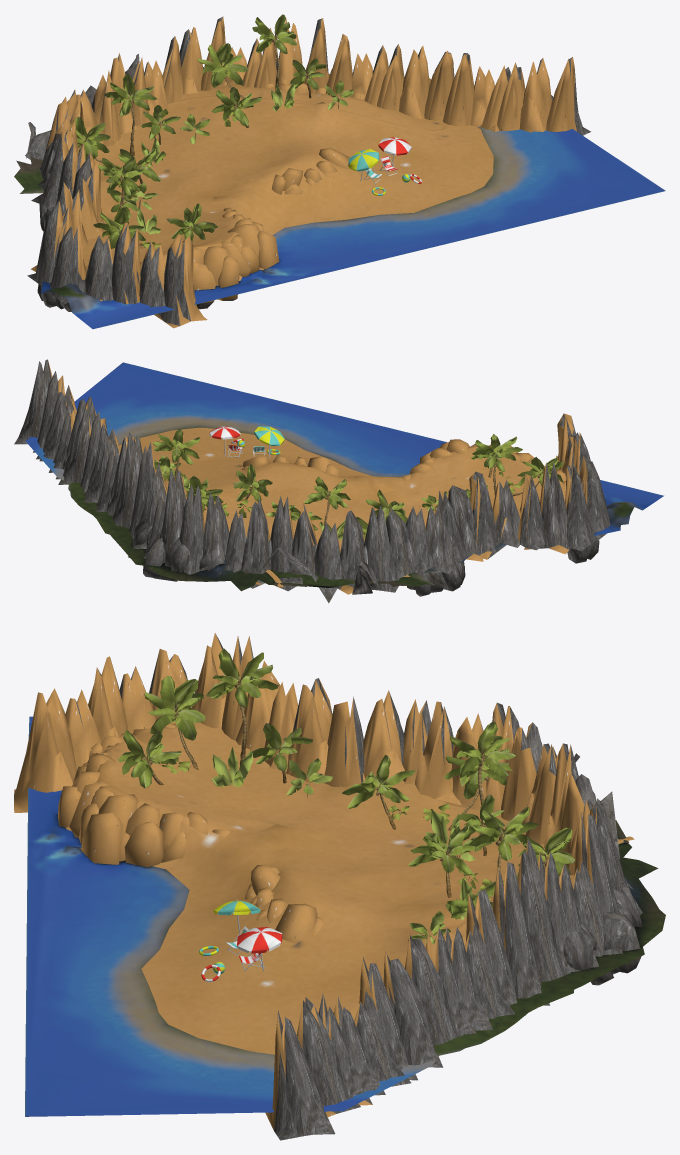
The model's file is Beach Scene.fbx.
The picture shows the model from 3 angles, top to bottom: view 1: azimuth 30°, elevation 25°; view 2: azimuth 150°, elevation 25°; view 3: azimuth 270°, elevation 25°; orthographic projection. The views are drawn at different scales.
Parts seen in each view (by area): view 1: Object_6; view 2: Object_6; view 3: Object_6.
Part boxes in pixels (box(x1,y1,x2,y2)): Object_6: box(14, 14, 665, 329); Object_6: box(14, 359, 663, 603); Object_6: box(14, 633, 665, 1140).
Bounding box in the file's own units: 22250 × 4736 × 14773.
Materials: 1 (1 with a texture image).
